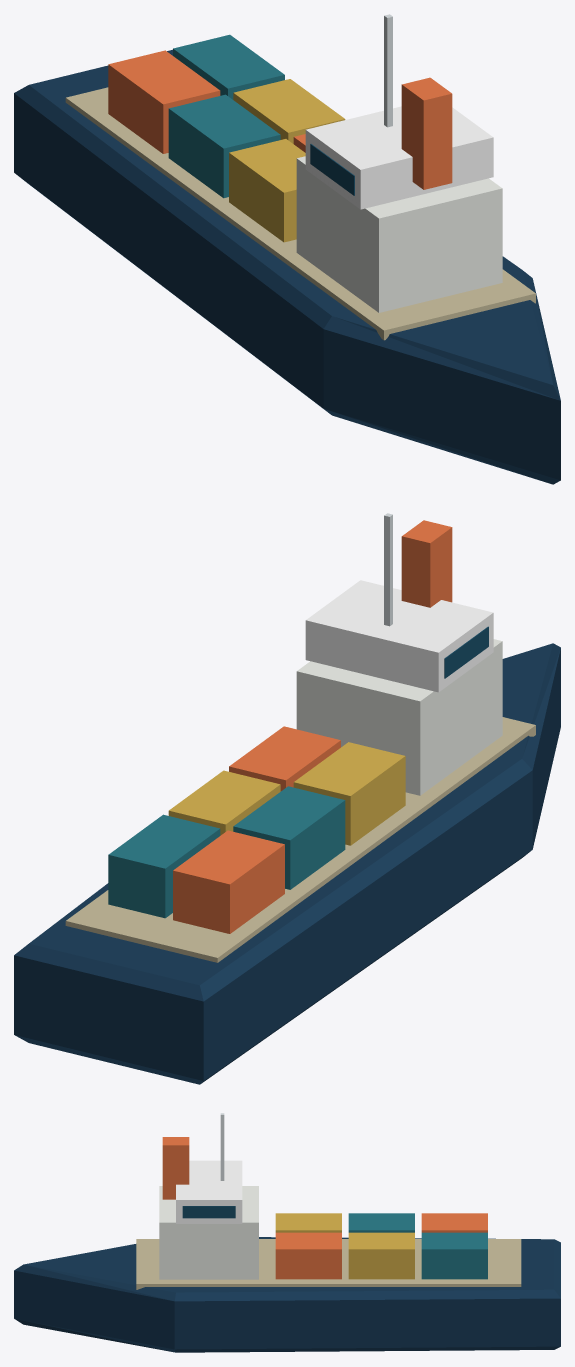
The model's file is demo-ship.glb.
The picture shows the model from 3 angles, top to bottom: view 1: azimuth 30°, elevation 25°; view 2: azimuth 150°, elevation 25°; view 3: azimuth 270°, elevation 25°; orthographic projection. The views are drawn at different scales.
Size of the model in its own units: 22.01 by 35 by 82.41.
